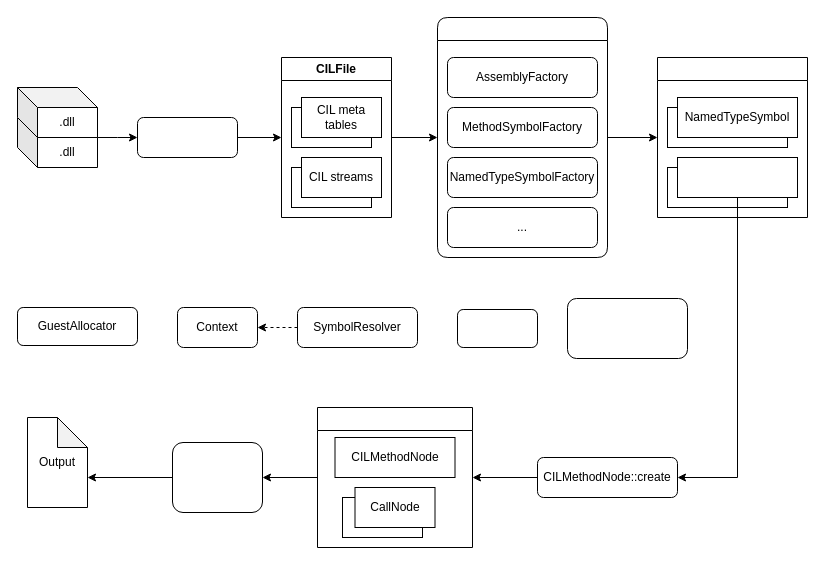
The diagram is 825 pixels wide and 565 high, and some of its shapes have lost their labels. The shapes that lost their labels are listed below. From the top down, each one's box as (x1, y1, x2, y2) in pixels, then its label:
(136, 116, 238, 158): low-level parser
(436, 16, 608, 258): Symbol factories
(656, 56, 808, 218): Symbols
(676, 156, 798, 198): MethodSymbol
(456, 308, 538, 348): Static analysis
(566, 298, 688, 358): CILOSTAZOL stub method implementations
(172, 442, 262, 512): Interpreter
(316, 406, 472, 548): Interpreted CIL code
